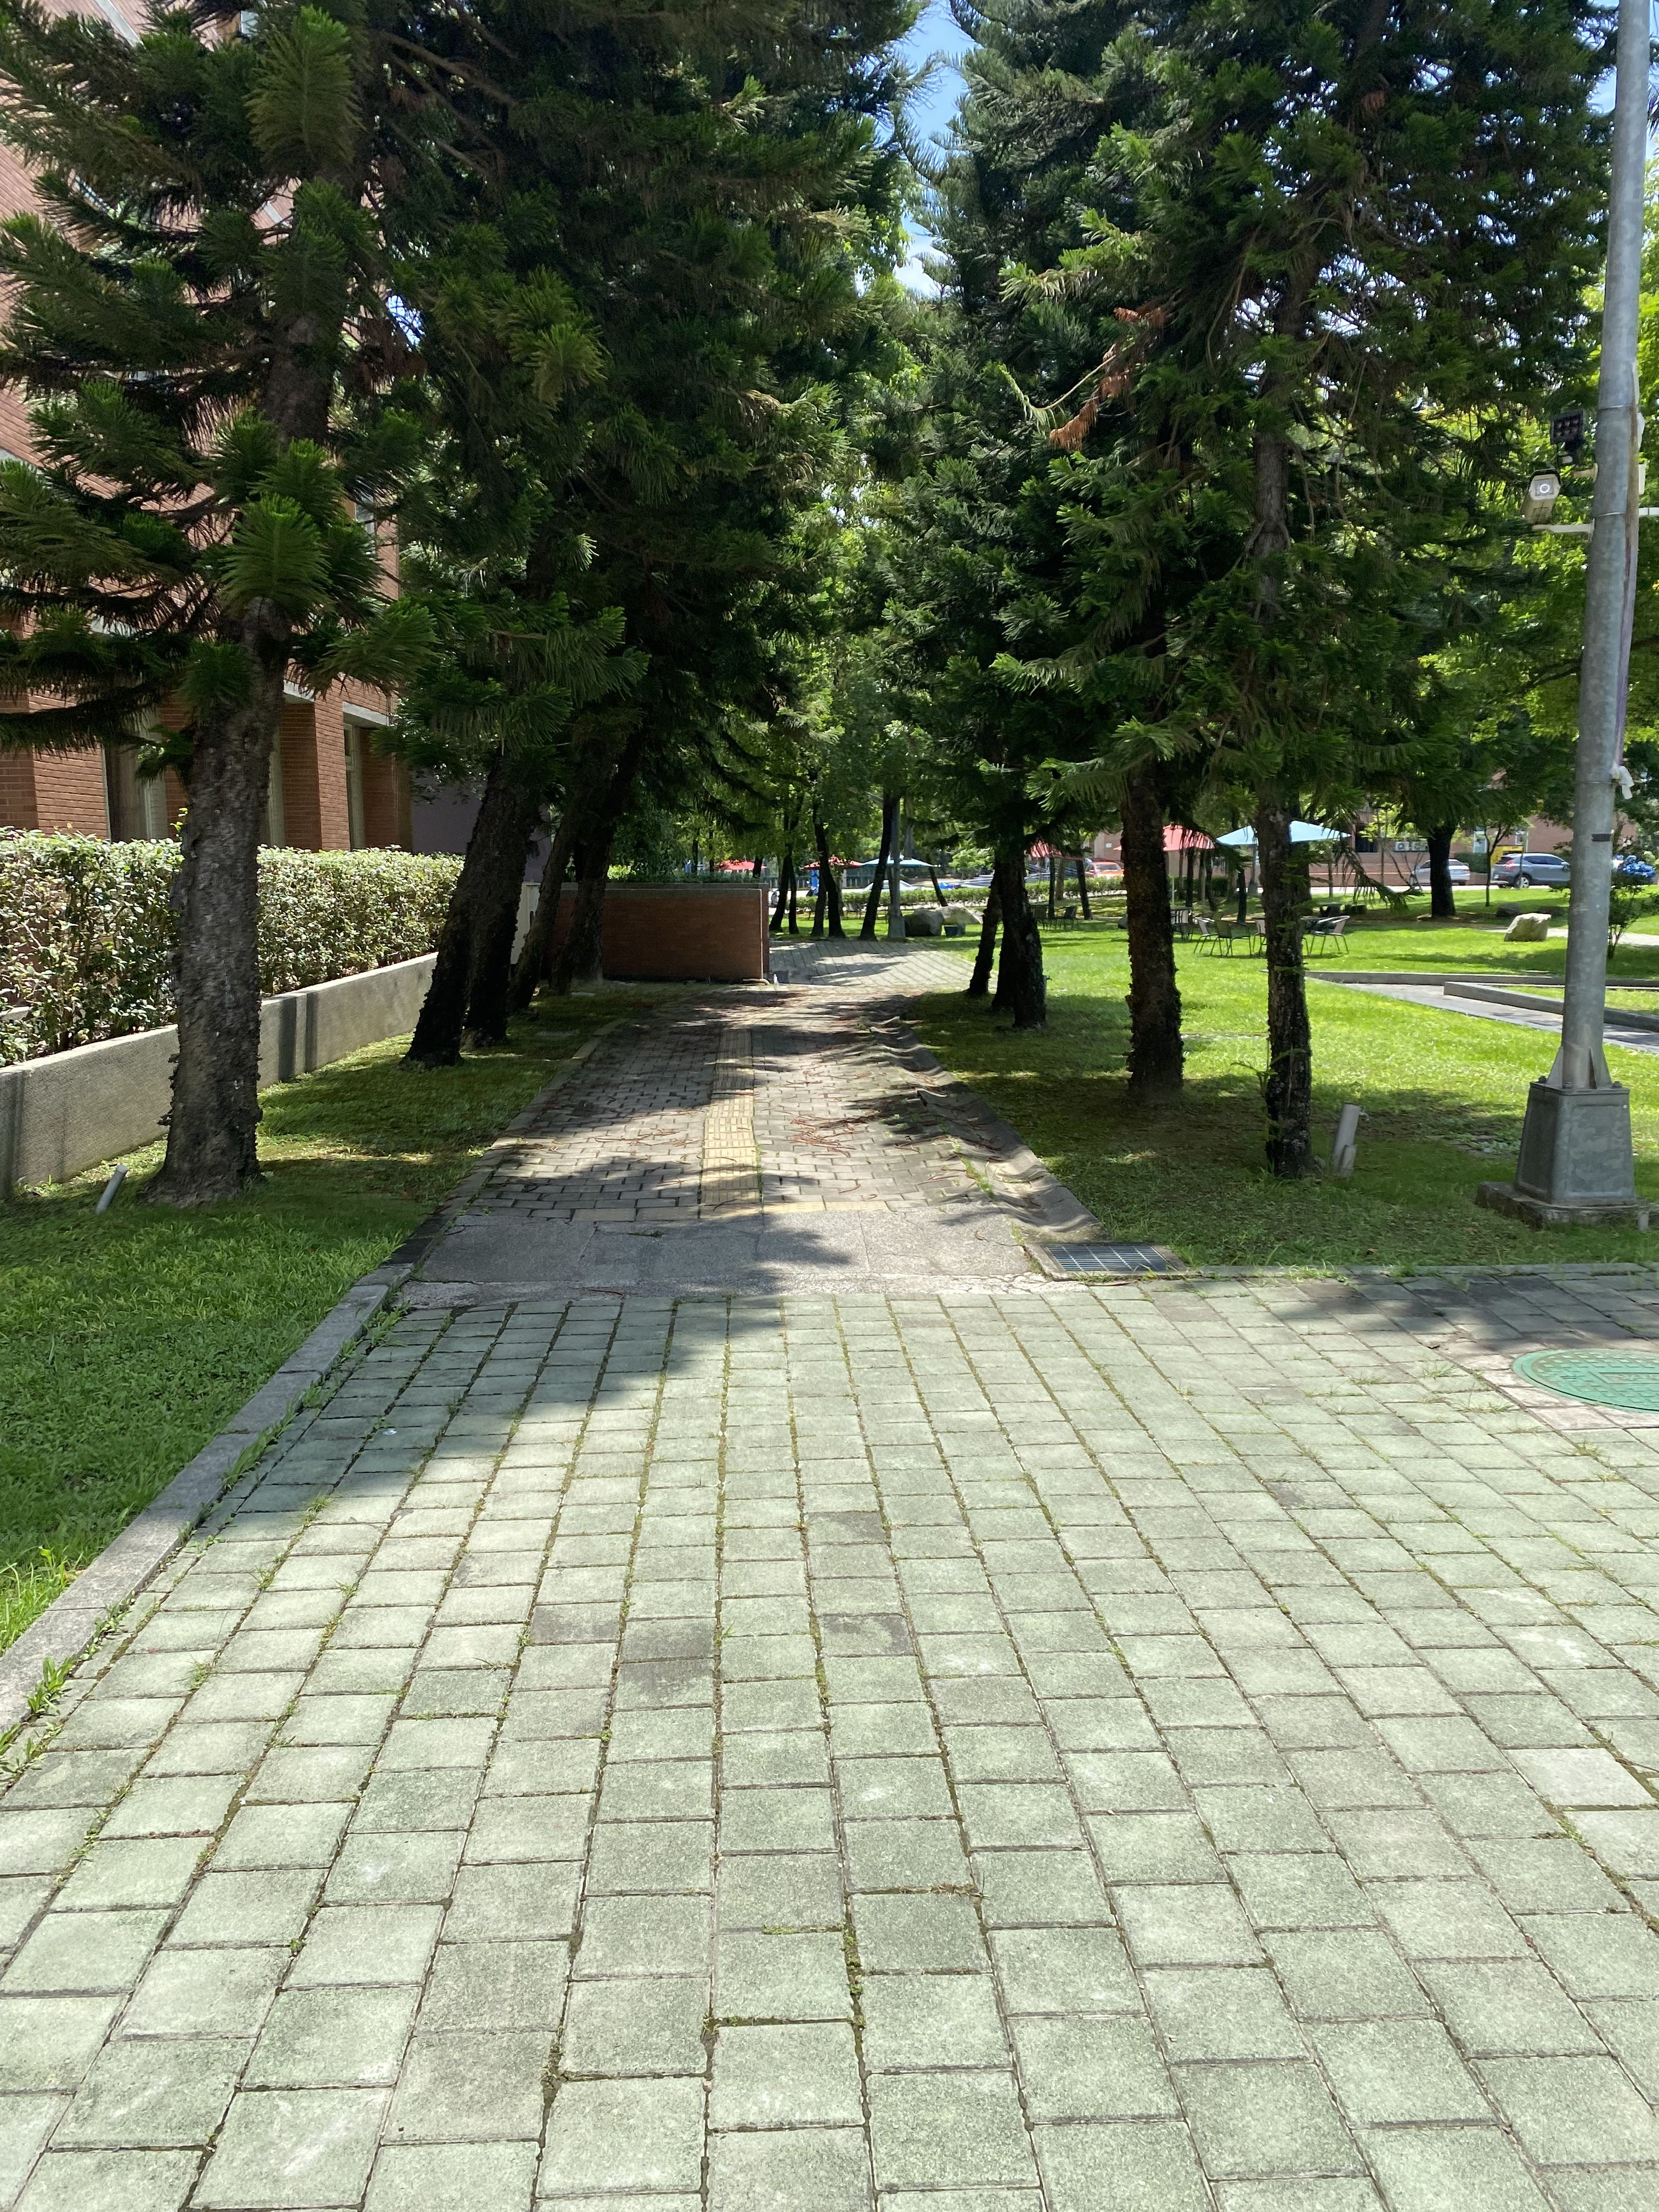0: (14, 1244, 1659, 2212)
sidewalk: (460, 907, 1138, 1413)
